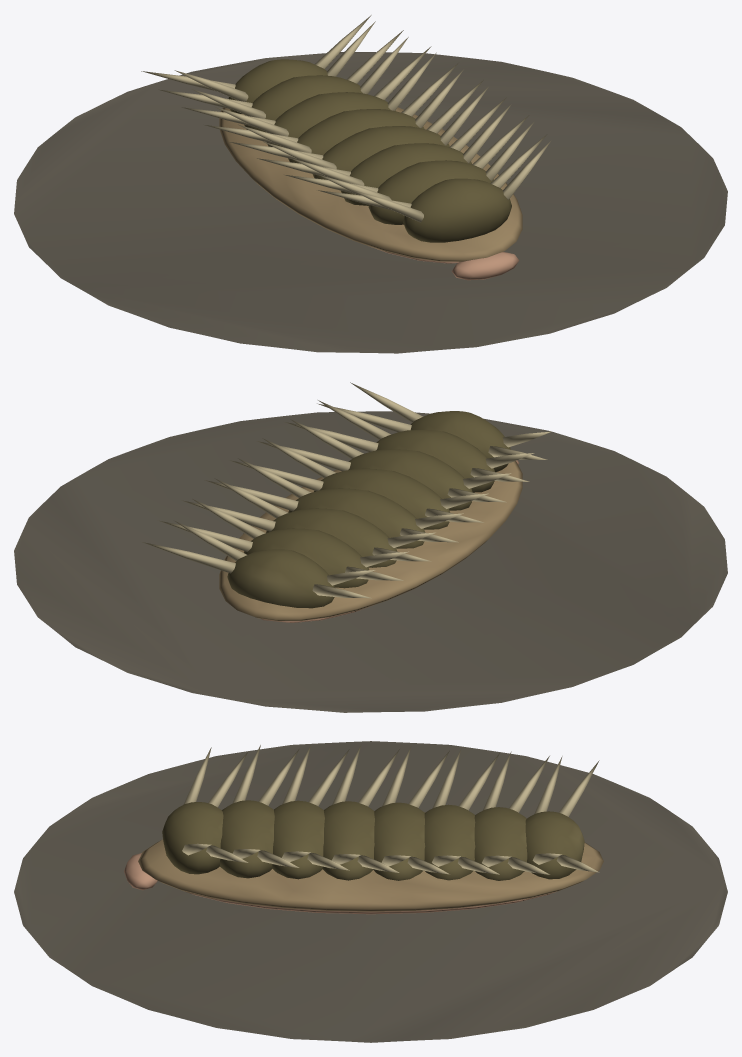
The model's file is EchinochitonDufoei.fbx.
The picture shows the model from 3 angles, top to bottom: view 1: azimuth 30°, elevation 25°; view 2: azimuth 150°, elevation 25°; view 3: azimuth 270°, elevation 25°; orthographic projection.
Parts seen in each view (by area): view 1: EchinochitonDufoei; view 2: EchinochitonDufoei; view 3: EchinochitonDufoei.
Part boxes in pixels (x1,y1,x2,y2): EchinochitonDufoei: [14, 15, 727, 353]; EchinochitonDufoei: [14, 382, 727, 712]; EchinochitonDufoei: [14, 741, 727, 1042].
Size of the model in its own units: 1.9 by 0.2834 by 1.9.
